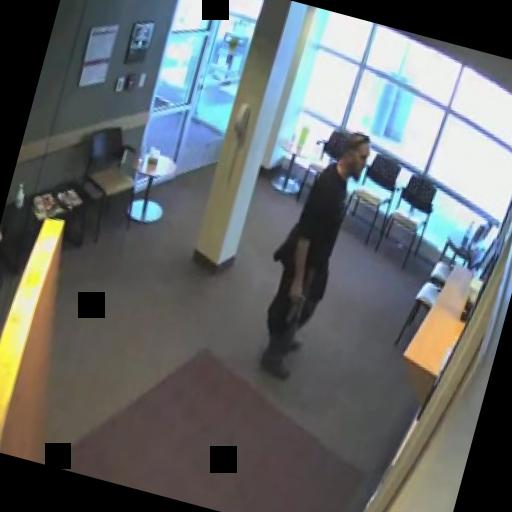Handgun: (279, 283, 304, 324)
